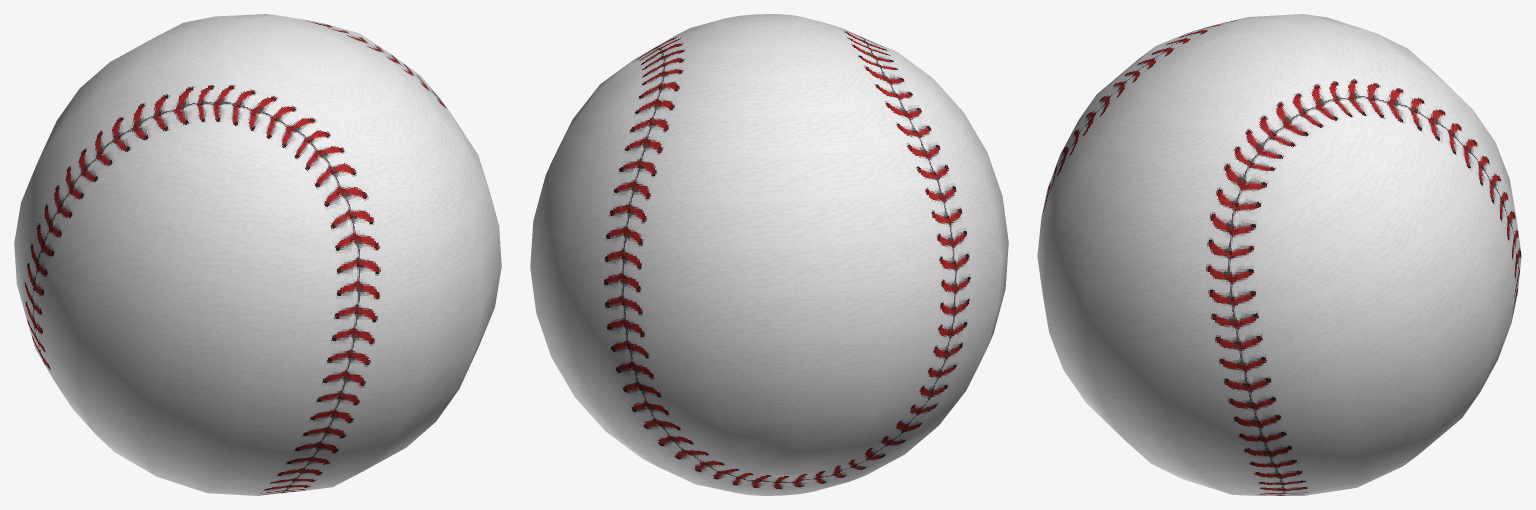
The picture shows the model from 3 angles, left to right: view 1: azimuth 30°, elevation 25°; view 2: azimuth 150°, elevation 25°; view 3: azimuth 270°, elevation 25°; orthographic projection.
Visible parts, largest first — view 1: Joint_0_Object_0, Joint_0_Object_1; view 2: Joint_0_Object_0, Joint_0_Object_1; view 3: Joint_0_Object_0, Joint_0_Object_1.
Part boxes in pixels (box(x1,y1,x2,y2)): Joint_0_Object_0: box(14, 14, 501, 495); Joint_0_Object_1: box(24, 19, 452, 495); Joint_0_Object_0: box(530, 14, 1008, 495); Joint_0_Object_1: box(603, 27, 971, 489); Joint_0_Object_0: box(1037, 14, 1516, 495); Joint_0_Object_1: box(1041, 17, 1521, 495).
Bounding box in the file's own units: 198 × 200 × 198.
1 material, 1 textured.
